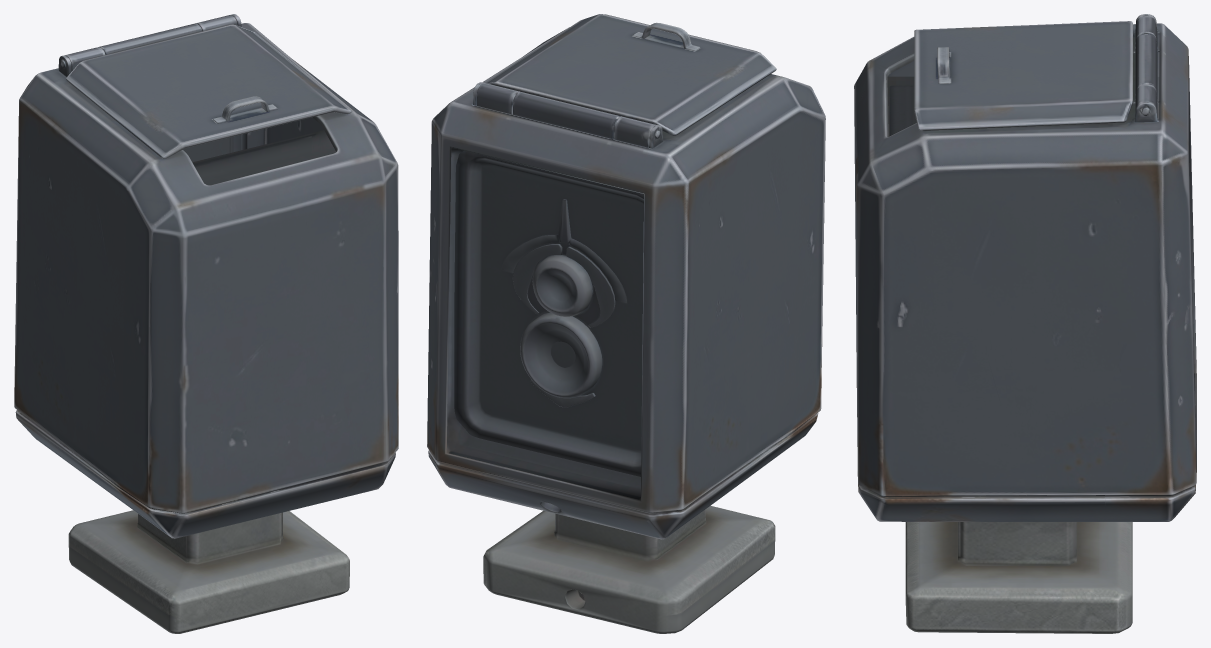
File: industrial+trash+can+3d+model.fbx
The picture shows the model from 3 angles, left to right: view 1: azimuth 30°, elevation 25°; view 2: azimuth 150°, elevation 25°; view 3: azimuth 270°, elevation 25°; orthographic projection. The views are drawn at different scales.
Parts seen in each view (by area): view 1: tripo_143d447e_98d0_45ab_8e6a_b5d778143fd3; view 2: tripo_143d447e_98d0_45ab_8e6a_b5d778143fd3; view 3: tripo_143d447e_98d0_45ab_8e6a_b5d778143fd3.
Boxes of the visible parts, box(x1,y1,x2,y2) form: tripo_143d447e_98d0_45ab_8e6a_b5d778143fd3: box(14, 14, 398, 633); tripo_143d447e_98d0_45ab_8e6a_b5d778143fd3: box(427, 14, 825, 633); tripo_143d447e_98d0_45ab_8e6a_b5d778143fd3: box(854, 14, 1196, 633).
Size of the model in its own units: 0.5161 by 0.9995 by 0.5796.
Materials: 1 (1 with a texture image).
